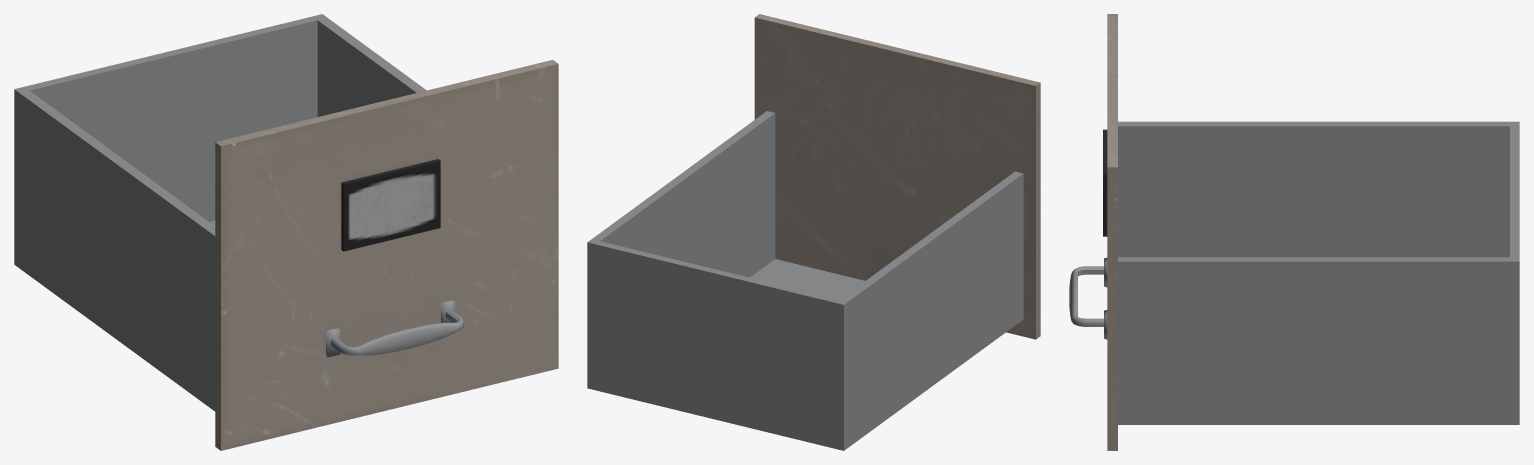
Rendered from SM_Filecabinet_02_fc2_drawer2.fbx.
3 views of the same model, side by side, from view 1: azimuth 30°, elevation 25°; view 2: azimuth 150°, elevation 25°; view 3: azimuth 270°, elevation 25° (orthographic). The views are drawn at different scales.
Visible parts, largest first — view 1: SM_Filecabinet_02_fc2_drawer2; view 2: SM_Filecabinet_02_fc2_drawer2; view 3: SM_Filecabinet_02_fc2_drawer2.
Part boxes in pixels (bbox=[...]): SM_Filecabinet_02_fc2_drawer2: bbox=[14, 14, 558, 450]; SM_Filecabinet_02_fc2_drawer2: bbox=[587, 14, 1040, 450]; SM_Filecabinet_02_fc2_drawer2: bbox=[1069, 14, 1519, 450].
Size of the model in its own units: 33.99 by 42.19 by 29.3.
Materials: 1 (1 with a texture image).
